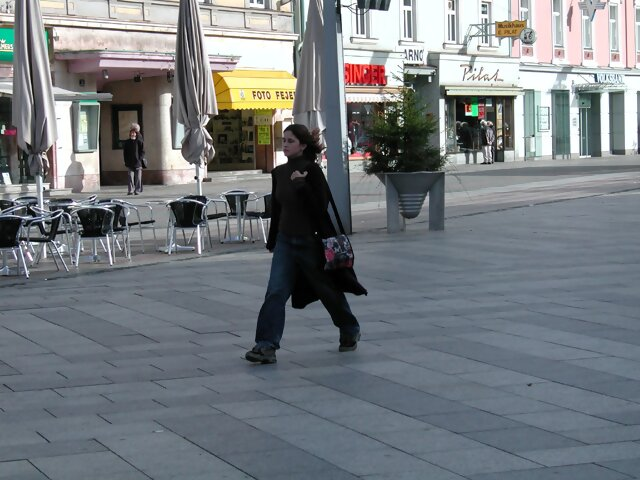person: (245, 122, 371, 364)
